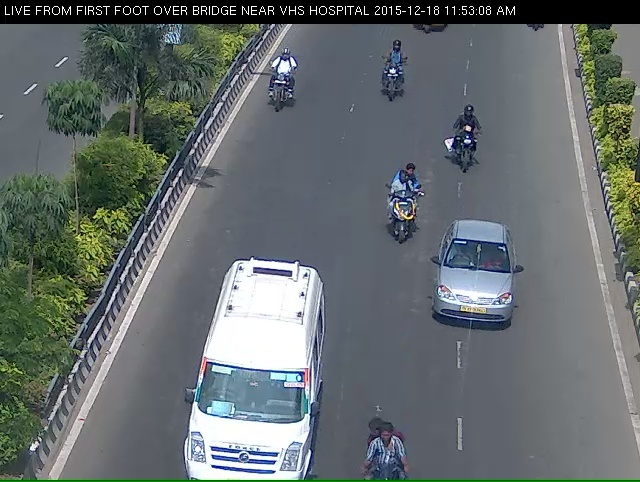Bus: (193, 289, 315, 479)
Car: (432, 236, 526, 348)
Person: (374, 166, 419, 263), (449, 114, 491, 191), (259, 52, 298, 133), (378, 48, 409, 117)
